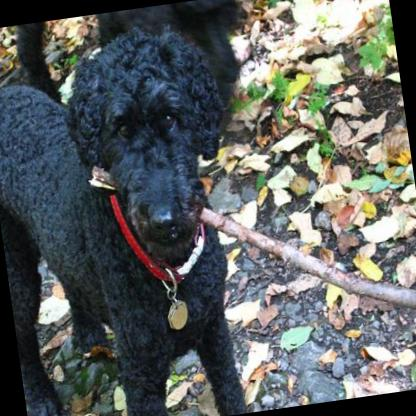standard_poodle: (0, 15, 267, 416)
